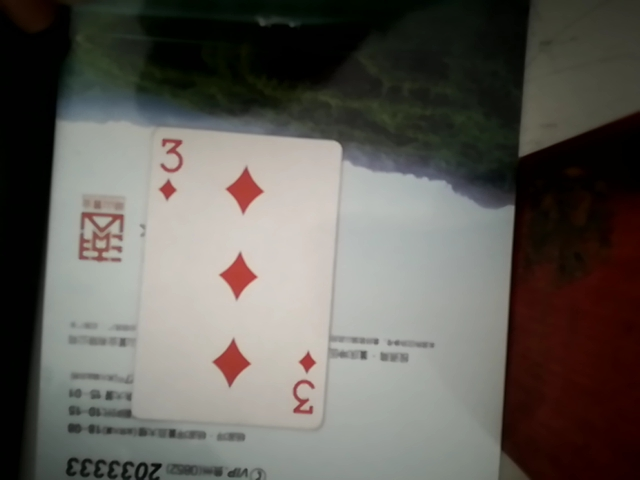fk 3: (133, 120, 341, 438)
